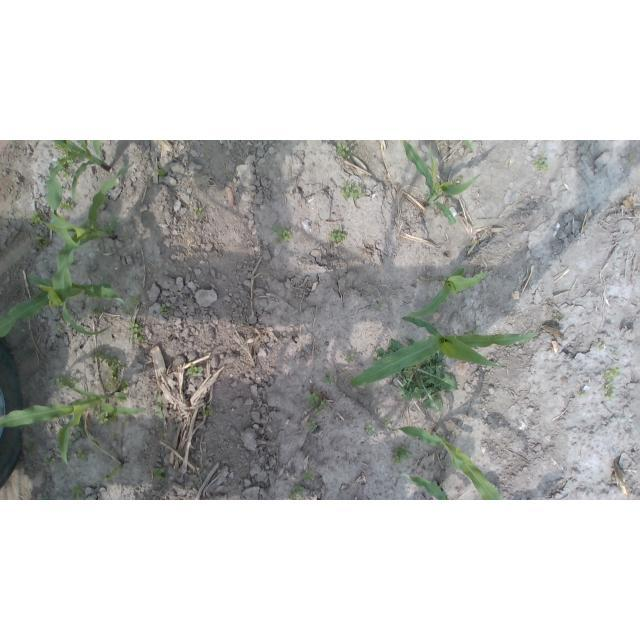Maize: (38, 162, 135, 337), (0, 380, 146, 475), (349, 316, 540, 388), (1, 274, 128, 338), (394, 426, 503, 500), (45, 140, 114, 249), (402, 140, 482, 226), (409, 268, 493, 317), (400, 473, 449, 500), (460, 140, 476, 154)
Weeds: (376, 338, 460, 413), (91, 353, 129, 391), (602, 365, 622, 399), (55, 143, 73, 177), (340, 179, 365, 201), (304, 392, 329, 414), (391, 445, 413, 464), (33, 232, 52, 250), (273, 227, 294, 243), (154, 392, 166, 420), (129, 322, 143, 343), (97, 412, 119, 425), (329, 228, 347, 243), (152, 467, 168, 483), (336, 142, 351, 159), (288, 485, 304, 500), (188, 363, 205, 377), (535, 157, 549, 172), (72, 488, 88, 501), (68, 433, 82, 447), (31, 212, 44, 225), (57, 380, 75, 389), (307, 418, 319, 431), (302, 469, 315, 481), (202, 406, 214, 419), (42, 457, 56, 468), (160, 303, 170, 317), (60, 201, 74, 211), (76, 451, 88, 462), (552, 312, 564, 322), (594, 341, 607, 350), (157, 169, 167, 180), (193, 207, 203, 218), (365, 424, 375, 435), (92, 307, 101, 317), (131, 295, 140, 305), (627, 155, 637, 164), (577, 390, 588, 398), (324, 376, 333, 385), (346, 353, 354, 363), (124, 308, 133, 315), (57, 328, 67, 334), (377, 301, 383, 309)
